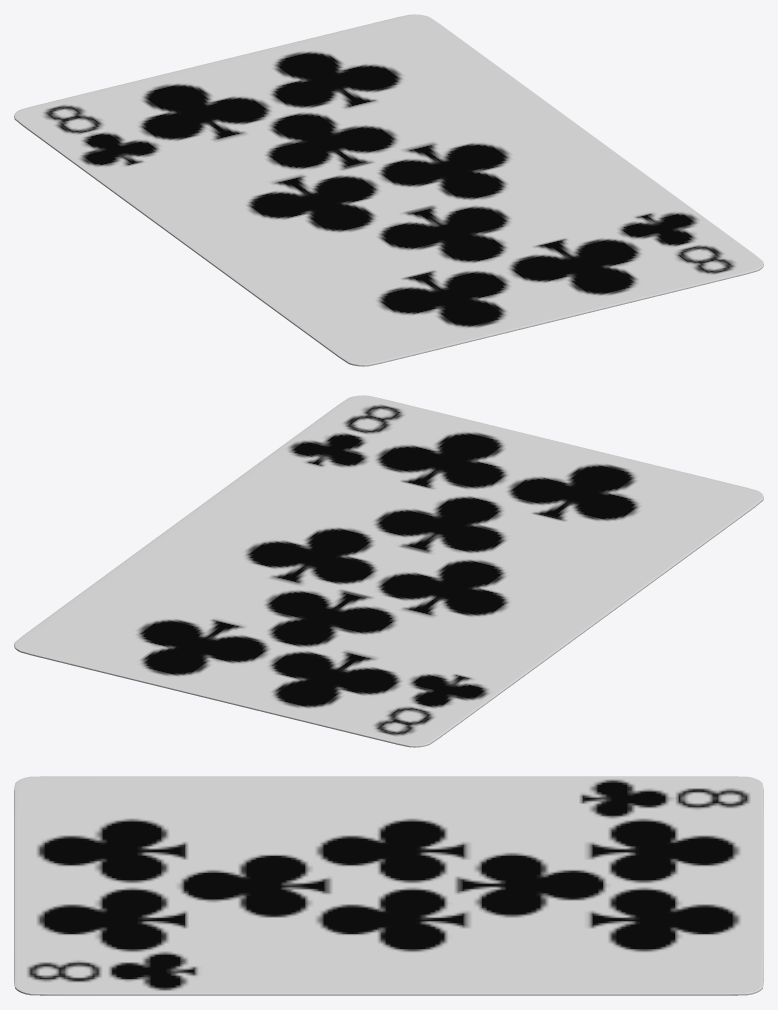
File: eight_of_clubs.fbx
The picture shows the model from 3 angles, top to bottom: view 1: azimuth 30°, elevation 25°; view 2: azimuth 150°, elevation 25°; view 3: azimuth 270°, elevation 25°; orthographic projection. The views are drawn at different scales.
Visible parts, largest first — view 1: eight_of_clubs; view 2: eight_of_clubs; view 3: eight_of_clubs.
Part boxes in pixels (x1=…): eight_of_clubs: x1=14, y1=14, x2=763, y2=366; eight_of_clubs: x1=14, y1=395, x2=763, y2=747; eight_of_clubs: x1=14, y1=776, x2=763, y2=995.
Bounding box in the file's own units: 589 × 2.4 × 856.
